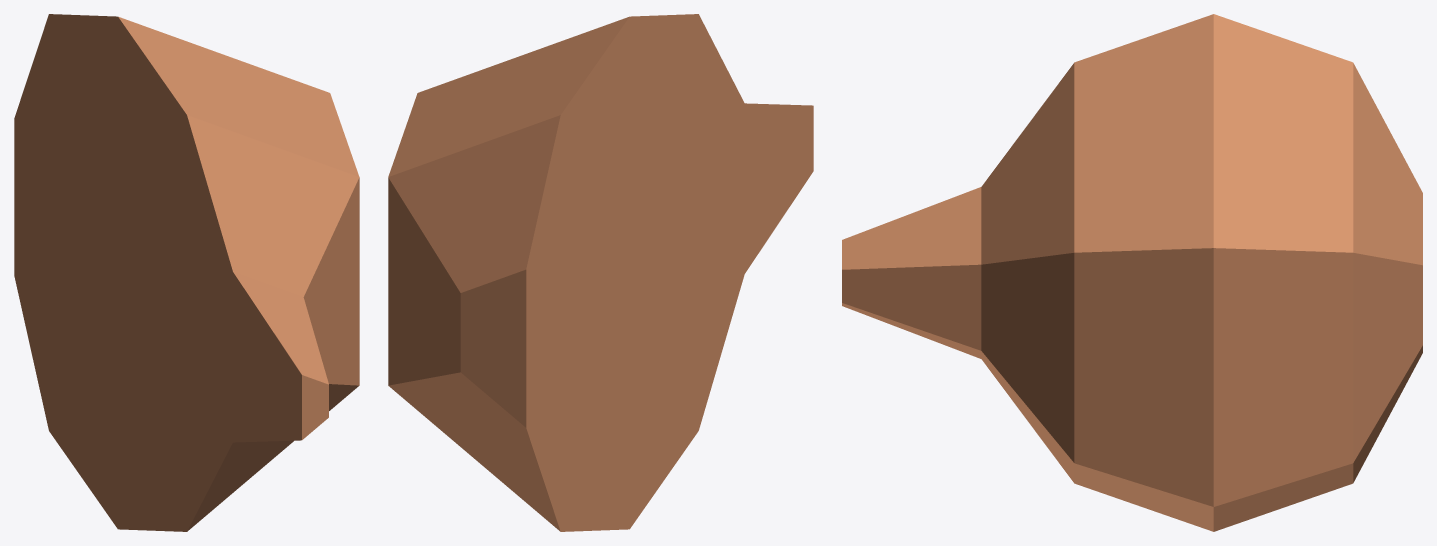
The model's file is onionHalf.obj.
The picture shows the model from 3 angles, left to right: view 1: azimuth 30°, elevation 25°; view 2: azimuth 150°, elevation 25°; view 3: azimuth 270°, elevation 25°; orthographic projection.
Visible parts, largest first — view 1: onionHalf; view 2: onionHalf; view 3: onionHalf.
Part boxes in pixels (x1=…): onionHalf: x1=14, y1=14, x2=359, y2=531; onionHalf: x1=388, y1=14, x2=813, y2=531; onionHalf: x1=842, y1=14, x2=1422, y2=531.
Bounding box in the file's own units: 0.1065 × 0.246 × 0.25.
